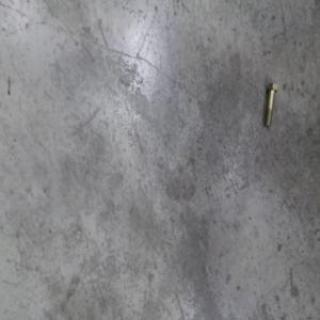Bolttrack_idkeyframe: (261, 76, 275, 124)
